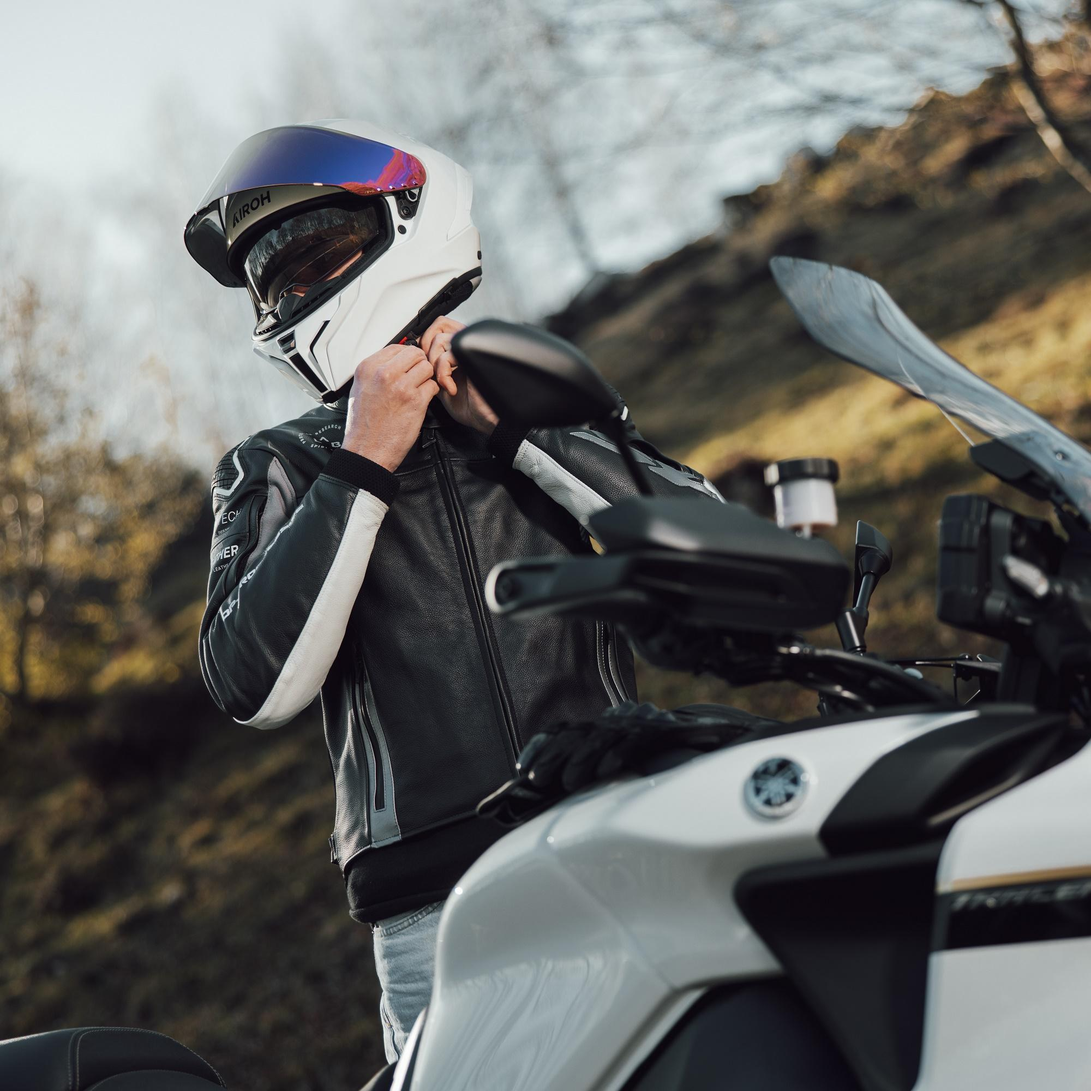Helmet: (184, 121, 479, 392)
